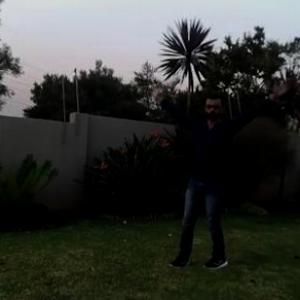takeoff: (148, 84, 289, 270)
